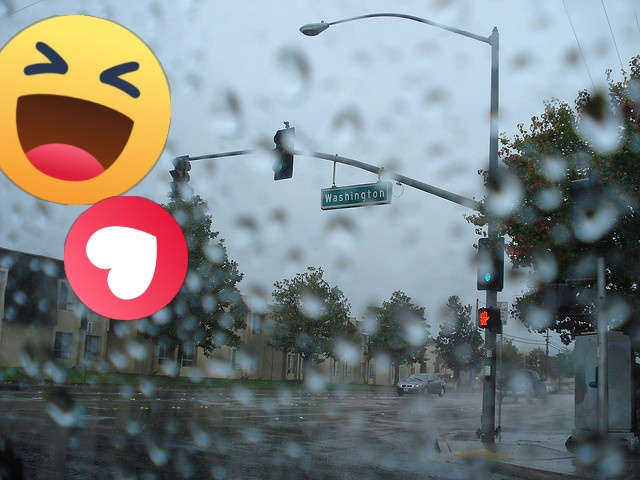haha: (0, 15, 171, 205)
love: (64, 196, 188, 320)
